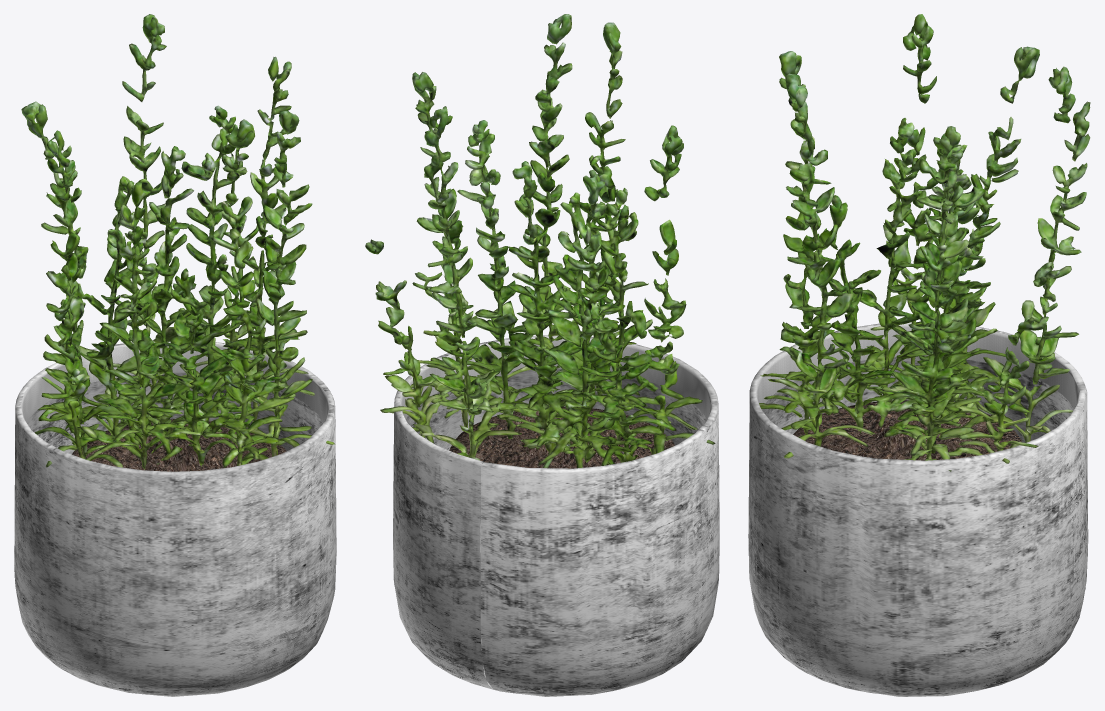
Rendered from Bacopa.glb.
3 renders of one model, left to right at view 1: azimuth 30°, elevation 25°; view 2: azimuth 150°, elevation 25°; view 3: azimuth 270°, elevation 25°, orthographic. The views are drawn at different scales.
Visible parts, largest first — view 1: G-AUL10_0, Mesh_0.006; view 2: G-AUL10_0, Mesh_0.006; view 3: G-AUL10_0, Mesh_0.006.
Part boxes in pixels (box(x1,y1,x2,y2)): G-AUL10_0: box(14, 340, 336, 696); Mesh_0.006: box(21, 14, 335, 469); G-AUL10_0: box(393, 335, 719, 696); Mesh_0.006: box(365, 14, 715, 468); G-AUL10_0: box(748, 322, 1088, 696); Mesh_0.006: box(759, 14, 1090, 471).
Bounding box in the file's own units: 0.6845 × 1.34 × 0.6825.
3 materials, 3 textured.
